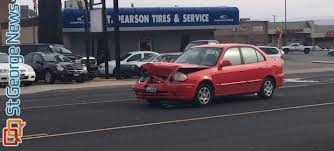Dent: (135, 63, 190, 98)
